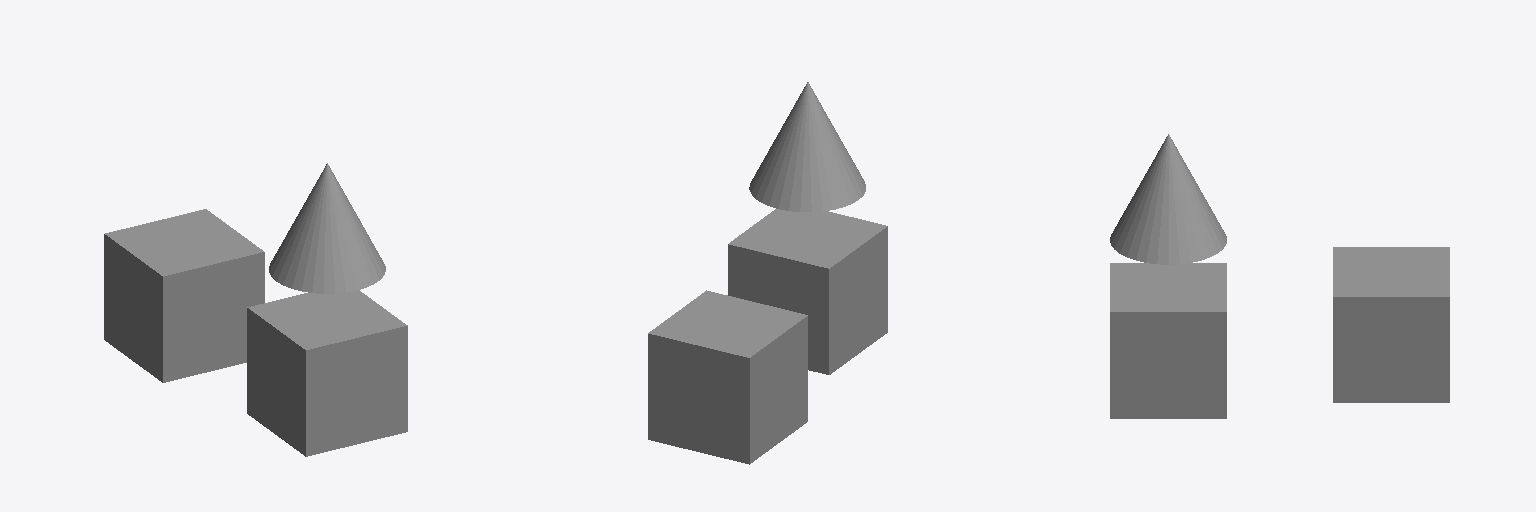
File: multiMesh.obj
3 renders of one model, left to right at view 1: azimuth 30°, elevation 25°; view 2: azimuth 150°, elevation 25°; view 3: azimuth 270°, elevation 25°, orthographic.
Parts seen in each view (by area): view 1: Cube, Cube2_Cube.001, Cone; view 2: Cube2_Cube.001, Cube, Cone; view 3: Cube2_Cube.001, Cube, Cone.
Part boxes in pixels (x1,y1,x2,y2): Cube: (247,290,407,456); Cube2_Cube.001: (104,209,264,382); Cone: (269,163,385,293); Cube2_Cube.001: (648,290,807,464); Cube: (728,209,887,374); Cone: (749,82,865,211); Cube2_Cube.001: (1333,247,1449,402); Cube: (1110,263,1226,418); Cone: (1110,134,1226,264).
Size of the model in its own units: 2.62 by 4.89 by 5.79.